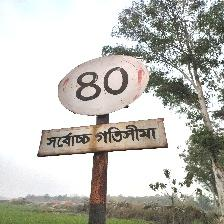Speed-limit: (38, 55, 165, 156)
